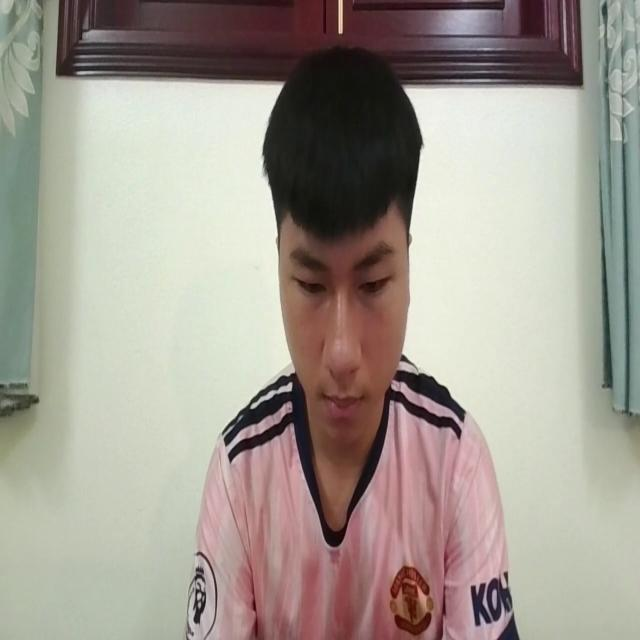student: (190, 35, 515, 640)
